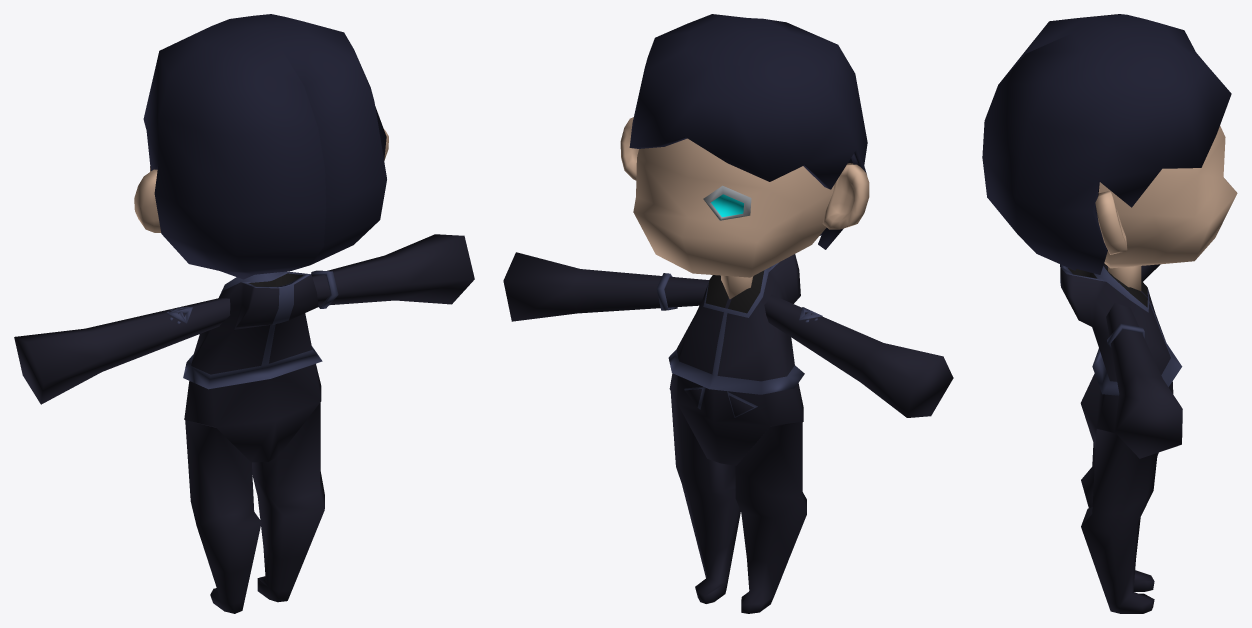
Rendered from Male1.fbx.
3 renders of one model, left to right at view 1: azimuth 30°, elevation 25°; view 2: azimuth 150°, elevation 25°; view 3: azimuth 270°, elevation 25°, orthographic. The views are drawn at different scales.
Parts seen in each view (by area): view 1: Hair, Body, Legs, Arms, Ears; view 2: Hair, Body, Head, Arms, Legs, Ears, EyeMod; view 3: Hair, Head, Legs, Body, Arms, Ears, Neck.
Part boxes in pixels (bbox=[...]): Hair: bbox=[143, 14, 386, 279]; Body: bbox=[183, 271, 322, 462]; Legs: bbox=[185, 402, 324, 613]; Arms: bbox=[14, 234, 474, 404]; Ears: bbox=[134, 129, 388, 232]; Hair: bbox=[629, 14, 867, 249]; Body: bbox=[668, 254, 804, 465]; Head: bbox=[633, 138, 834, 277]; Arms: bbox=[503, 252, 953, 417]; Legs: bbox=[670, 391, 806, 613]; Ears: bbox=[620, 117, 869, 229]; EyeMod: bbox=[703, 185, 751, 220]; Hair: bbox=[982, 14, 1231, 274]; Head: bbox=[1098, 125, 1237, 268]; Legs: bbox=[1081, 429, 1157, 613]; Body: bbox=[1060, 263, 1182, 456]; Arms: bbox=[1106, 264, 1182, 458]; Ears: bbox=[1095, 191, 1127, 254]; Neck: bbox=[1108, 266, 1141, 290].
Bounding box in the file's own units: 252 × 318 × 129.
